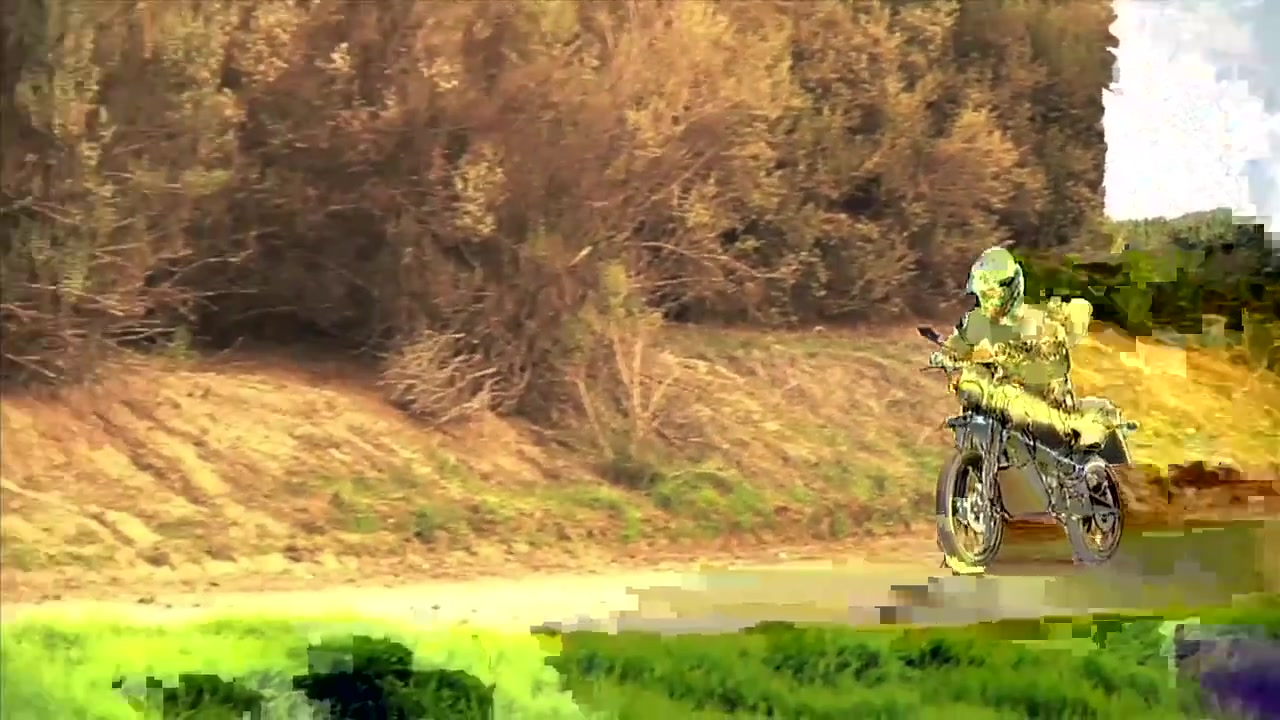motorbike: (919, 324, 1135, 567)
